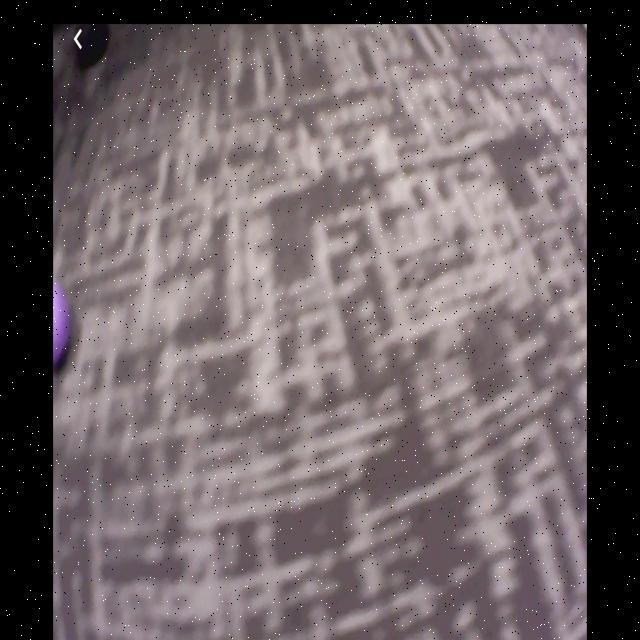ball: (53, 279, 73, 373)
